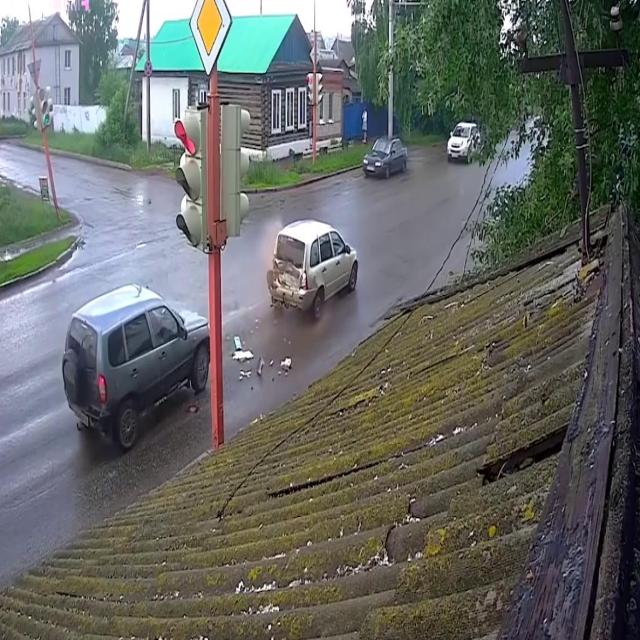accident: (254, 213, 362, 343)
